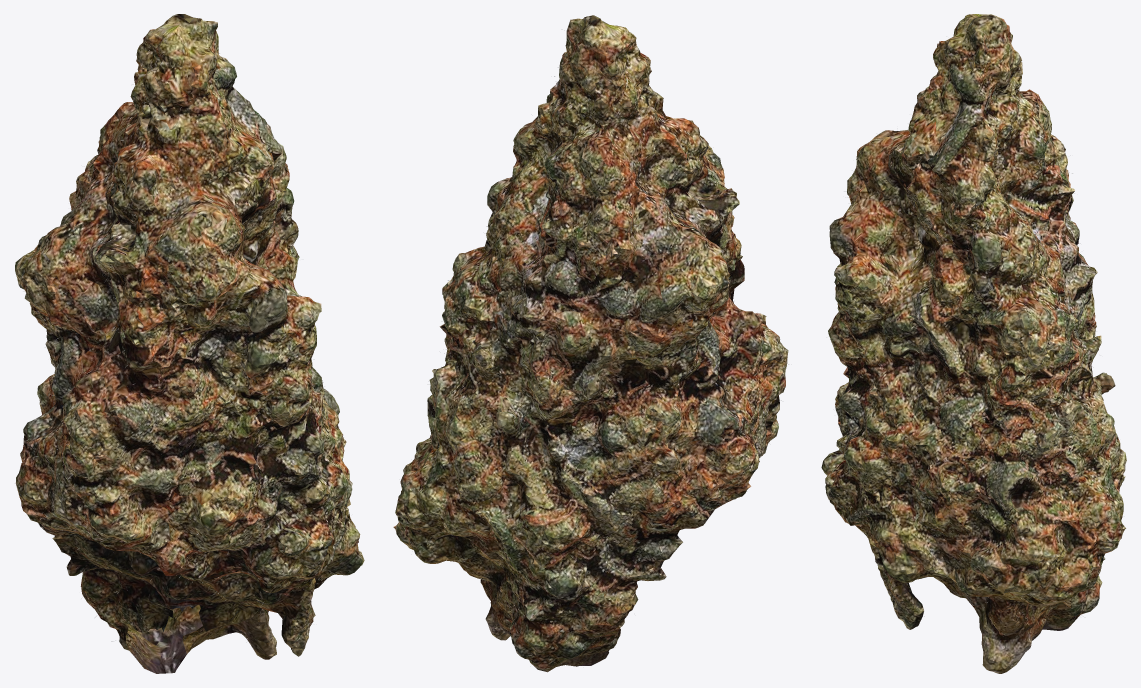
File: midnighttokers.glb
The picture shows the model from 3 angles, left to right: view 1: azimuth 30°, elevation 25°; view 2: azimuth 150°, elevation 25°; view 3: azimuth 270°, elevation 25°; orthographic projection. The views are drawn at different scales.
Visible parts, largest first — view 1: Alien_ATH_0; view 2: Alien_ATH_0; view 3: Alien_ATH_0.
Boxes of the visible parts, left/top/right/bottom form: Alien_ATH_0: left=14, top=14, right=364, bottom=673; Alien_ATH_0: left=393, top=15, right=788, bottom=672; Alien_ATH_0: left=821, top=14, right=1126, bottom=673.
Bounding box in the file's own units: 0.4567 × 0.8514 × 0.3809.
2 materials, 1 textured.
